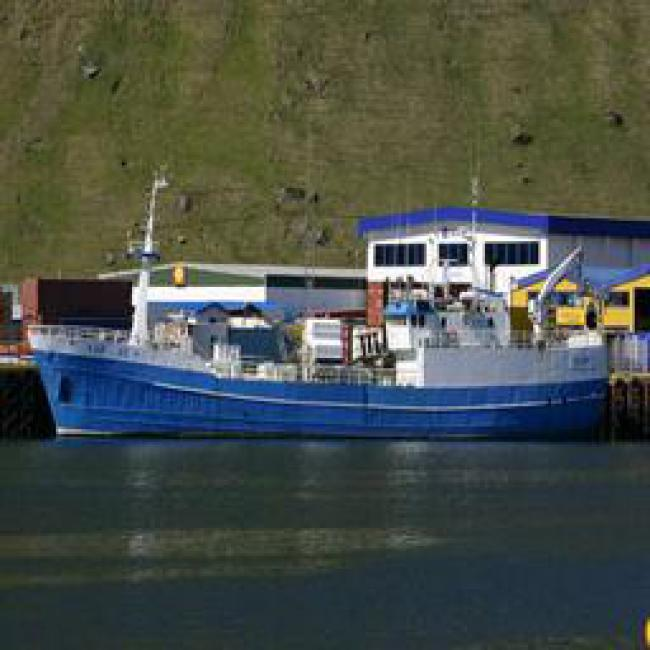Ship: (13, 258, 607, 458)
